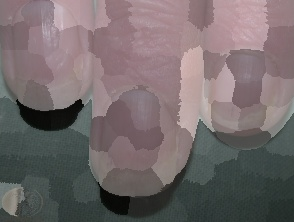Nail_psoriasis: (86, 34, 201, 203), (193, 21, 294, 151), (0, 0, 101, 117)
